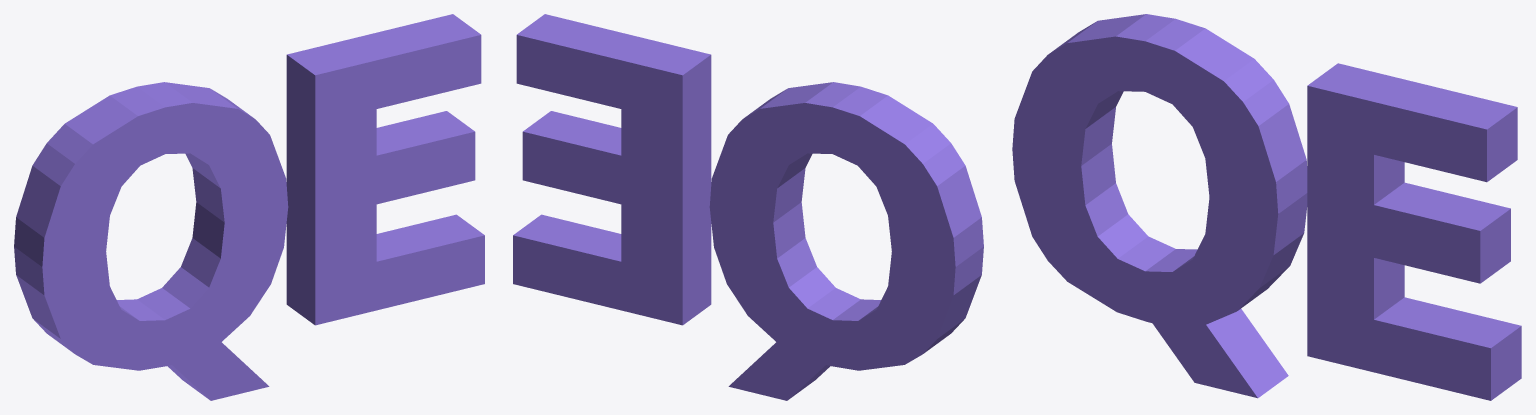
The model's file is suku_besar_qe.glb.
3 views of the same model, side by side, from view 1: azimuth 30°, elevation 25°; view 2: azimuth 150°, elevation 25°; view 3: azimuth 330°, elevation 25° (orthographic). The views are drawn at different scales.
Visible parts, largest first — view 1: geometry_0; view 2: geometry_0; view 3: geometry_0.
Boxes of the visible parts, left/top/right/bottom form: geometry_0: left=14, top=14, right=484, bottom=400; geometry_0: left=513, top=14, right=983, bottom=400; geometry_0: left=1012, top=14, right=1521, bottom=400.
Size of the model in its own units: 13.5 by 8.88 by 1.5.
